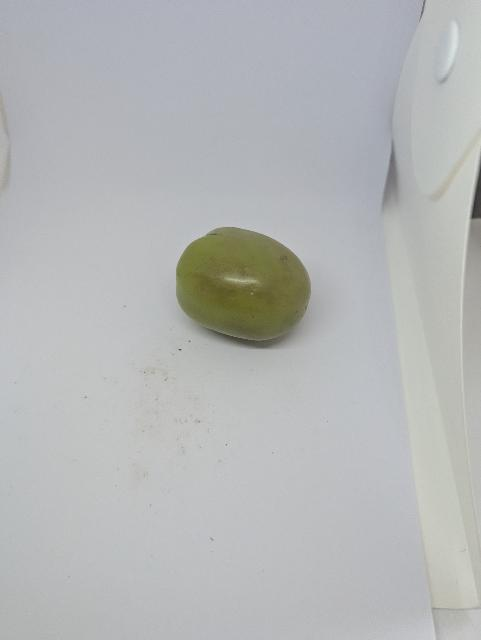green: (162, 209, 324, 363)
